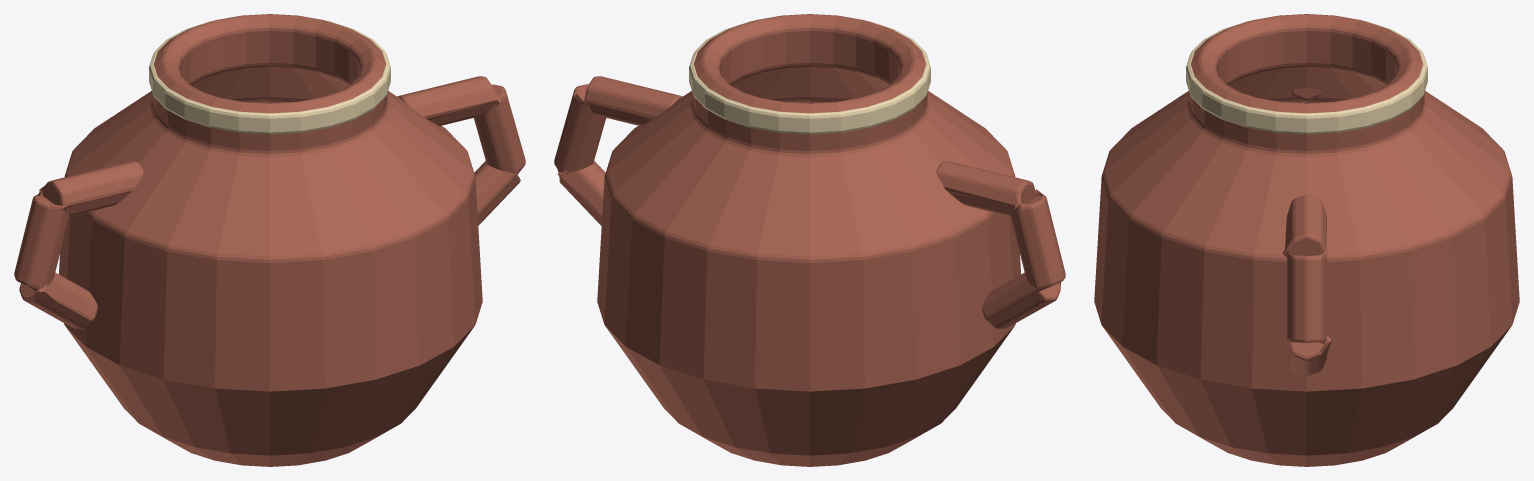
The model's file is clay_jar.glb.
The picture shows the model from 3 angles, left to right: view 1: azimuth 30°, elevation 25°; view 2: azimuth 150°, elevation 25°; view 3: azimuth 270°, elevation 25°; orthographic projection.
Visible parts, largest first — view 1: clay_jar__structure, clay_jar__finish; view 2: clay_jar__structure, clay_jar__finish; view 3: clay_jar__structure, clay_jar__finish.
Part boxes in pixels (<box>): clay_jar__structure: <box>14,14,525,466</box>; clay_jar__finish: <box>149,21,390,134</box>; clay_jar__structure: <box>554,14,1065,466</box>; clay_jar__finish: <box>689,21,930,134</box>; clay_jar__structure: <box>1094,14,1519,466</box>; clay_jar__finish: <box>1186,21,1427,134</box>.
Bounding box in the file's own units: 0.619 × 0.4229 × 0.45.
